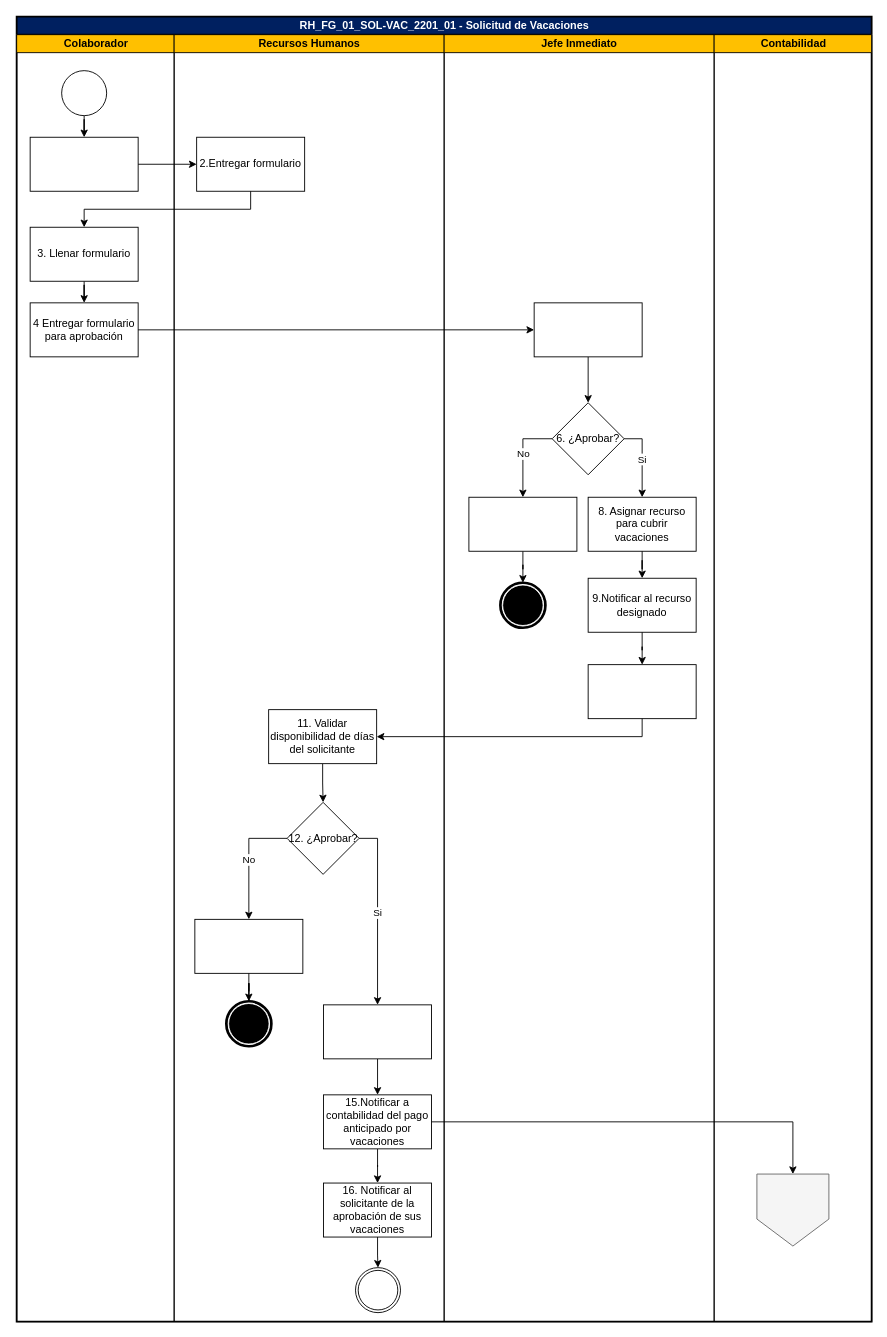
This 887x1337 diagram has some shape labels left out. Here are the shapes that lost their labels. From the top down, the centre of each, then its label:
the point at 83,163: 1. Requerir formulario
the point at 587,329: 5. Validar disponibilidad de recursos
the point at 522,523: 7. Notificar rechazo al solicitante
the point at 641,691: 10. Enviar formulario para aprobación de recursos humanos
the point at 248,945: 13. Notificar rechazo de recursos humanos al solicitante
the point at 377,1031: 14. Registrar vacaciones
the point at 792,1209: Proceso de pago de vacaciones - CN_PR_17
